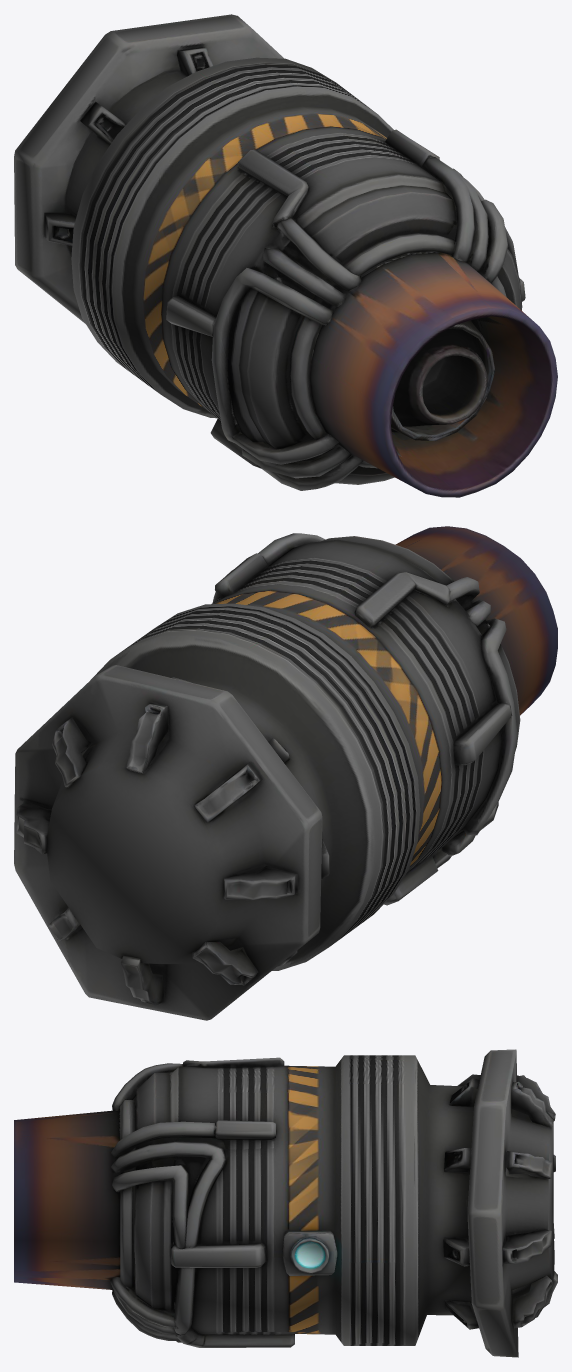
File: original_glb.glb
3 renders of one model, top to bottom at view 1: azimuth 30°, elevation 25°; view 2: azimuth 150°, elevation 25°; view 3: azimuth 270°, elevation 25°, orthographic. The views are drawn at different scales.
Visible parts, largest first — view 1: Charred Pulse Core; view 2: Charred Pulse Core; view 3: Charred Pulse Core.
Boxes of the visible parts, x1,y1,x2,y2 form: Charred Pulse Core: [14, 14, 557, 497]; Charred Pulse Core: [14, 526, 557, 1020]; Charred Pulse Core: [14, 1049, 557, 1357].
Bounding box in the file's own units: 0.5449 × 0.5332 × 0.998.
1 material, 1 textured.
